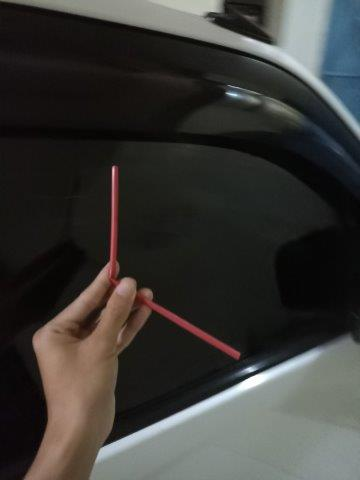sedotan: (109, 167, 238, 358)
